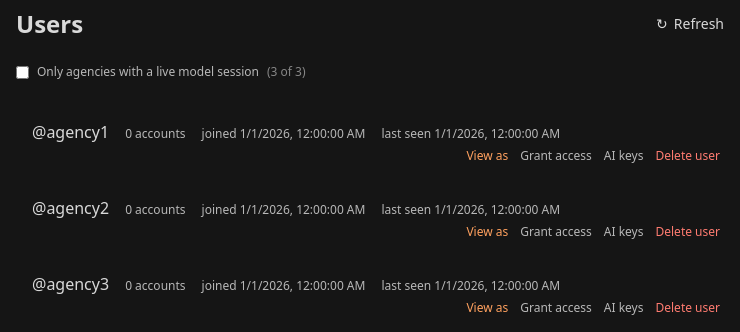
Scenario: /admin/manage live-only filter › an empty roster that LOADED filters: no agency has a live model
expect the text "@agency1" is shown: met, box [32,120,109,144]
Click the checkbox labelled "Only agencies with a live model session (3 of 3)": (22, 72) [16,66,29,78]
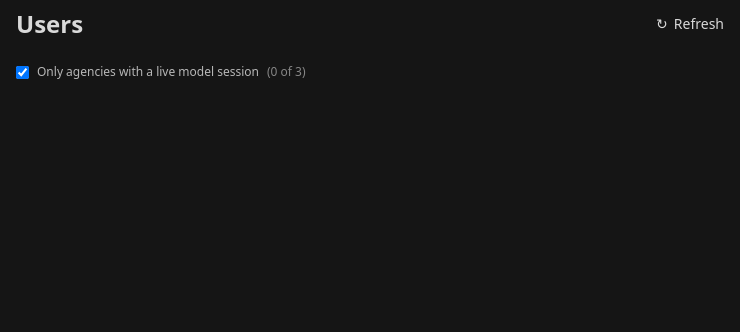
expect the text "(0 of 3)" is shown: met, box [267,64,306,80]
expect the text "@agency1" is gone: met
